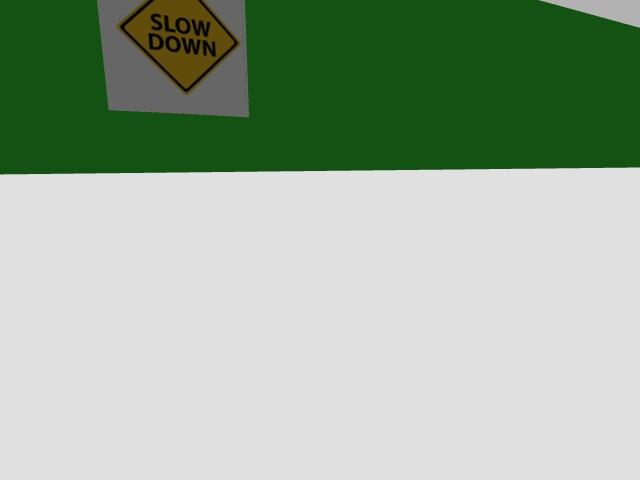slowsign: (98, 0, 248, 116)
